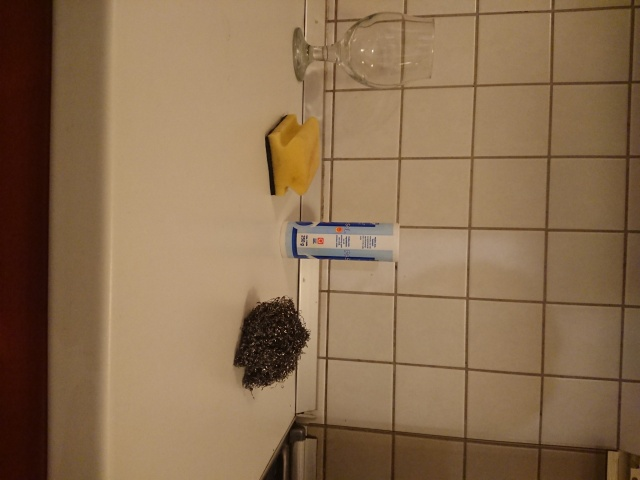Solana Pag Fine Sea Salt 250g: (276, 218, 403, 264)
